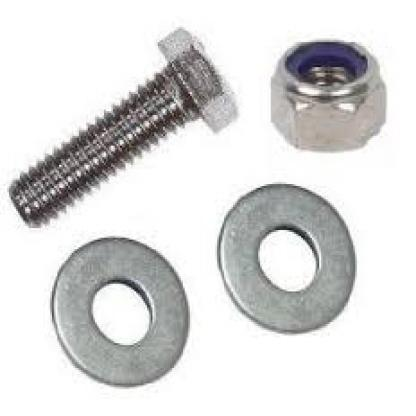METAL: (5, 25, 237, 226), (215, 182, 355, 332), (48, 236, 188, 385), (269, 36, 385, 152)
